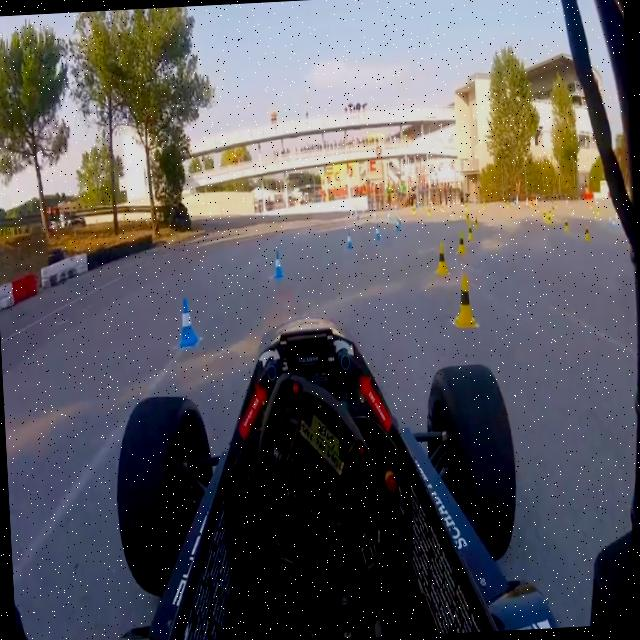blue_cone: (177, 293, 199, 351), (271, 247, 285, 280), (344, 228, 354, 250), (374, 223, 382, 241), (394, 217, 400, 235), (396, 211, 402, 228)
yellow_cone: (453, 270, 478, 331), (434, 237, 450, 276), (456, 230, 466, 256), (562, 214, 570, 235), (584, 223, 591, 246), (466, 222, 474, 242), (465, 210, 471, 228), (546, 212, 552, 228), (474, 214, 479, 232), (450, 207, 456, 221), (542, 210, 548, 223)
